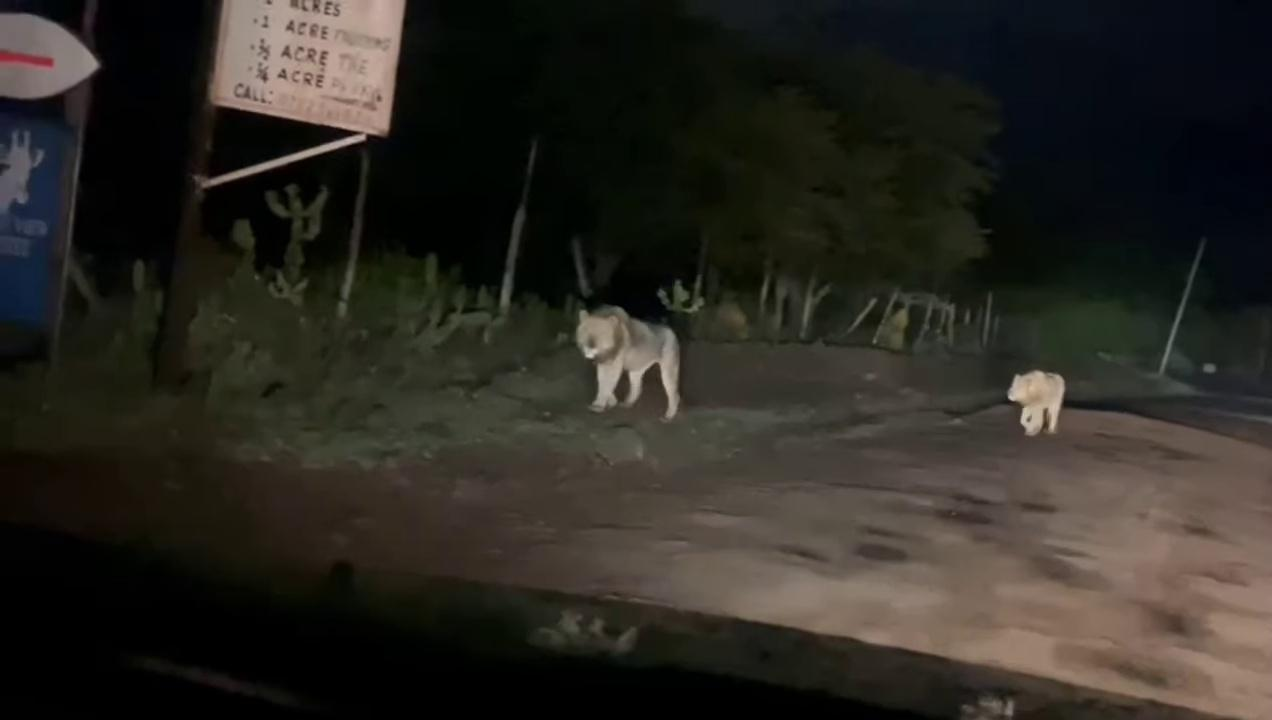lions: (564, 299, 697, 437), (1000, 353, 1087, 453)
